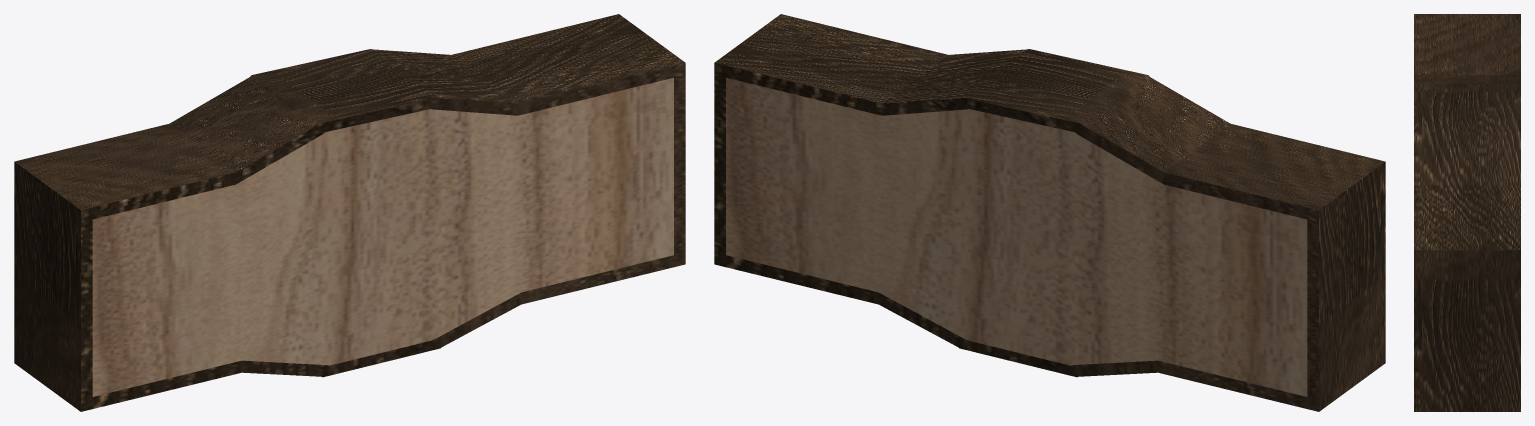
File: Minus.FBX
3 views of the same model, side by side, from view 1: azimuth 30°, elevation 25°; view 2: azimuth 150°, elevation 25°; view 3: azimuth 270°, elevation 25° (orthographic). The views are drawn at different scales.
Visible parts, largest first — view 1: Minus, Minus_outline; view 2: Minus, Minus_outline; view 3: Minus_outline.
Boxes of the visible parts, x1=… form: Minus: x1=92, y1=77, x2=673, y2=396; Minus_outline: x1=14, y1=14, x2=685, y2=411; Minus: x1=726, y1=77, x2=1307, y2=396; Minus_outline: x1=714, y1=14, x2=1385, y2=411; Minus_outline: x1=1414, y1=14, x2=1520, y2=411.
Size of the model in its own units: 52.4 by 21.08 by 10.
2 materials, 2 textured.
